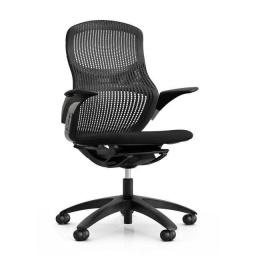Chair: (55, 23, 198, 241)
